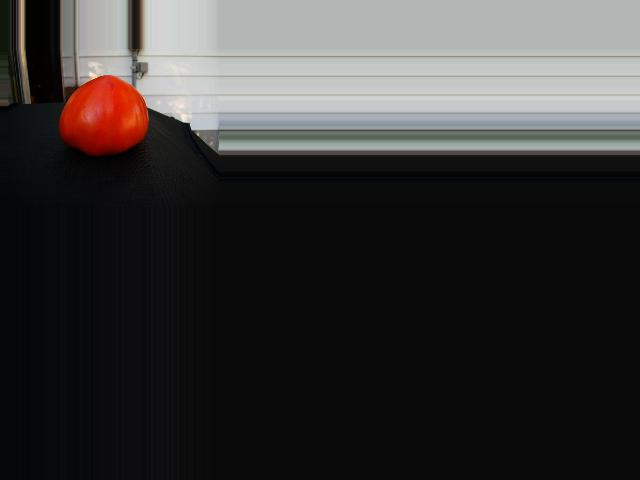tomato: (59, 74, 148, 156)
